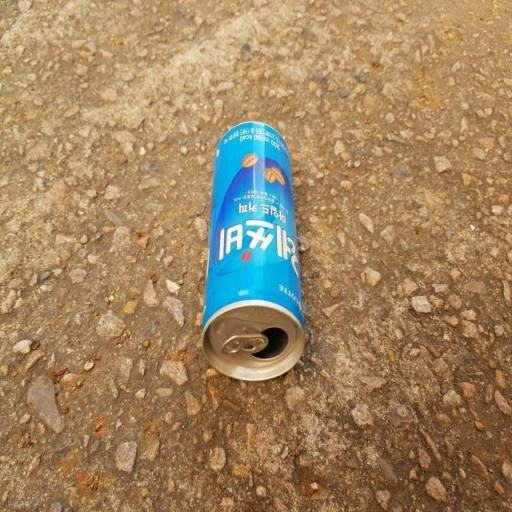metal: (165, 99, 339, 404)
